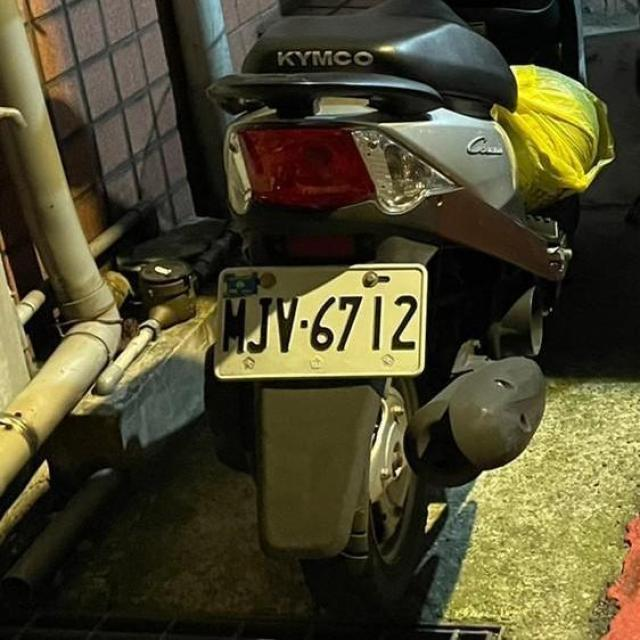W: (204, 247, 435, 391)
